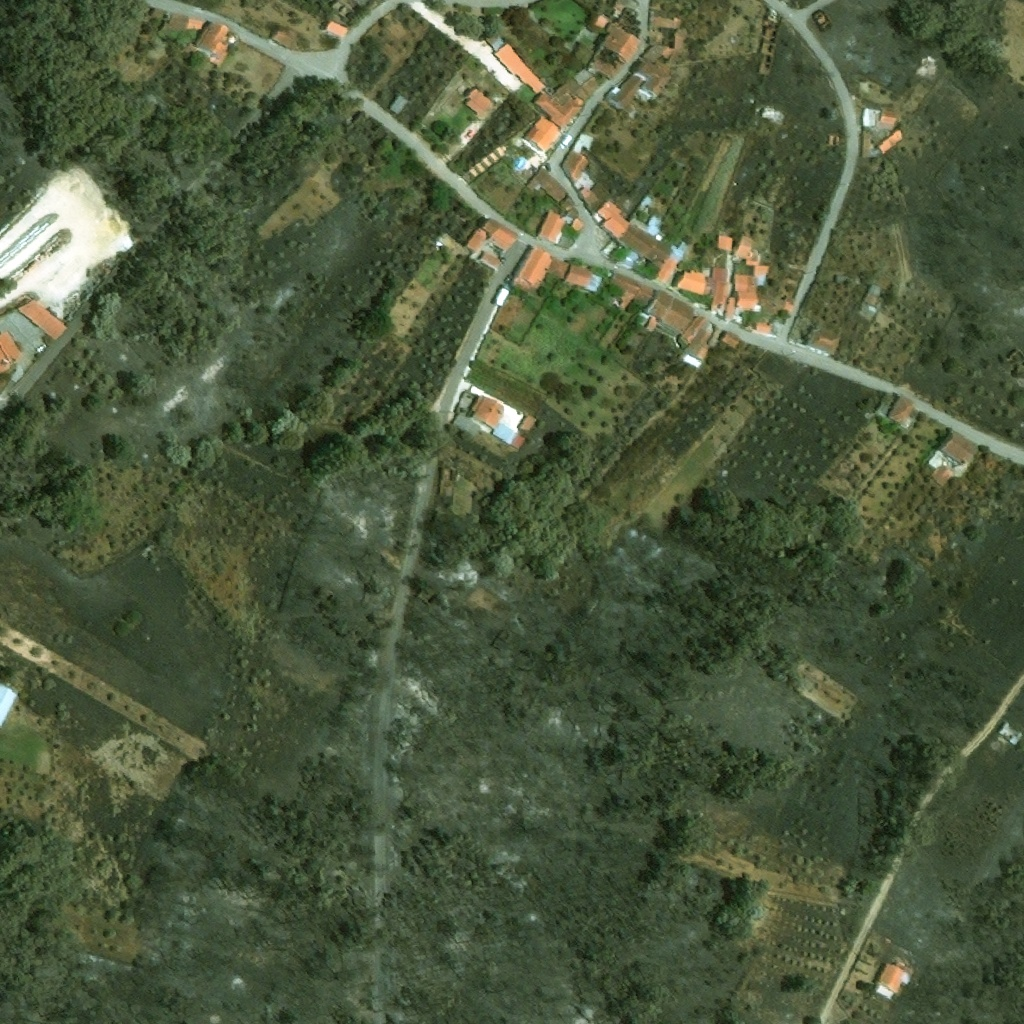0 no-damage: (596, 194, 672, 266), (676, 266, 746, 325), (484, 32, 547, 96), (609, 54, 677, 107), (927, 429, 978, 490), (510, 245, 570, 294), (732, 266, 791, 313), (676, 314, 724, 371), (533, 83, 588, 130), (17, 297, 68, 341), (646, 290, 696, 332), (607, 272, 657, 313), (191, 20, 233, 66), (560, 131, 598, 180), (525, 168, 569, 202), (480, 216, 519, 253), (648, 16, 687, 52), (873, 961, 914, 995), (536, 209, 574, 245), (529, 114, 563, 154), (471, 393, 507, 429), (446, 412, 485, 445), (564, 264, 604, 294), (0, 330, 24, 372), (807, 328, 841, 354), (731, 237, 761, 266), (887, 394, 915, 425), (465, 88, 492, 117), (491, 422, 521, 448), (875, 129, 905, 155), (0, 684, 17, 729), (656, 256, 679, 284), (464, 227, 488, 252), (862, 283, 884, 307), (272, 28, 297, 49), (325, 19, 349, 40), (387, 94, 408, 116), (876, 108, 897, 130), (166, 14, 190, 32), (477, 251, 500, 269), (718, 330, 740, 348), (859, 135, 872, 157), (520, 414, 537, 430), (715, 236, 733, 251), (862, 108, 876, 127), (644, 316, 659, 333), (571, 218, 585, 232), (755, 322, 771, 334), (876, 404, 890, 417), (595, 15, 608, 28), (577, 187, 591, 199), (834, 275, 847, 283)
1 minor-damage: (997, 720, 1023, 745)
2 major-damage: (585, 21, 642, 79), (752, 105, 776, 123)
3 destroyed: (759, 18, 782, 54), (812, 9, 833, 31), (618, 7, 637, 25), (759, 56, 772, 74), (827, 135, 837, 145)
4 un-classified: (332, 0, 368, 22)
